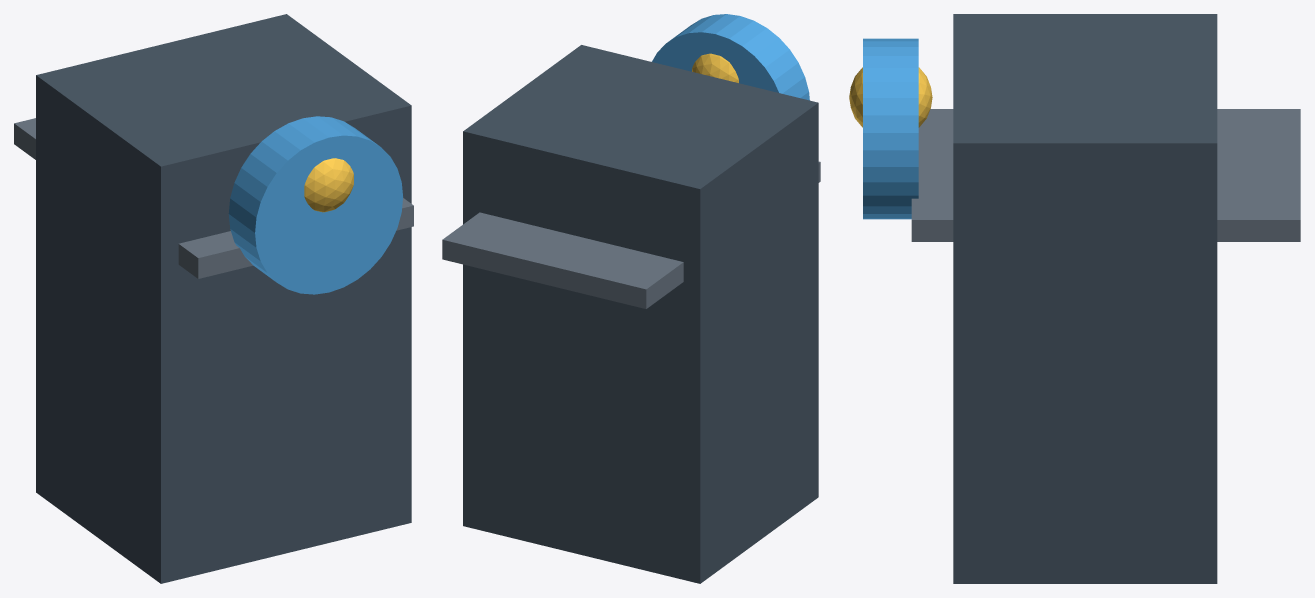
The model's file is sensor.glb.
3 views of the same model, side by side, from view 1: azimuth 30°, elevation 25°; view 2: azimuth 150°, elevation 25°; view 3: azimuth 270°, elevation 25° (orthographic). The views are drawn at different scales.
Parts seen in each view (by area): view 1: sensor_0, sensor_3, sensor_1, sensor_4; view 2: sensor_0, sensor_1, sensor_3, sensor_4; view 3: sensor_0, sensor_1, sensor_3, sensor_4.
Boxes of the visible parts, <box> form: sensor_0: <box>36,14,411,583</box>; sensor_3: <box>228,116,402,294</box>; sensor_1: <box>14,118,413,278</box>; sensor_4: <box>304,158,353,212</box>; sensor_0: <box>463,45,818,583</box>; sensor_1: <box>442,161,820,308</box>; sensor_3: <box>652,14,809,100</box>; sensor_4: <box>692,53,738,82</box>; sensor_0: <box>953,14,1217,583</box>; sensor_1: <box>911,109,1300,241</box>; sensor_3: <box>863,38,918,219</box>; sensor_4: <box>849,67,932,127</box>.
Size of the model in its own units: 0.44 by 0.75 by 0.65.
